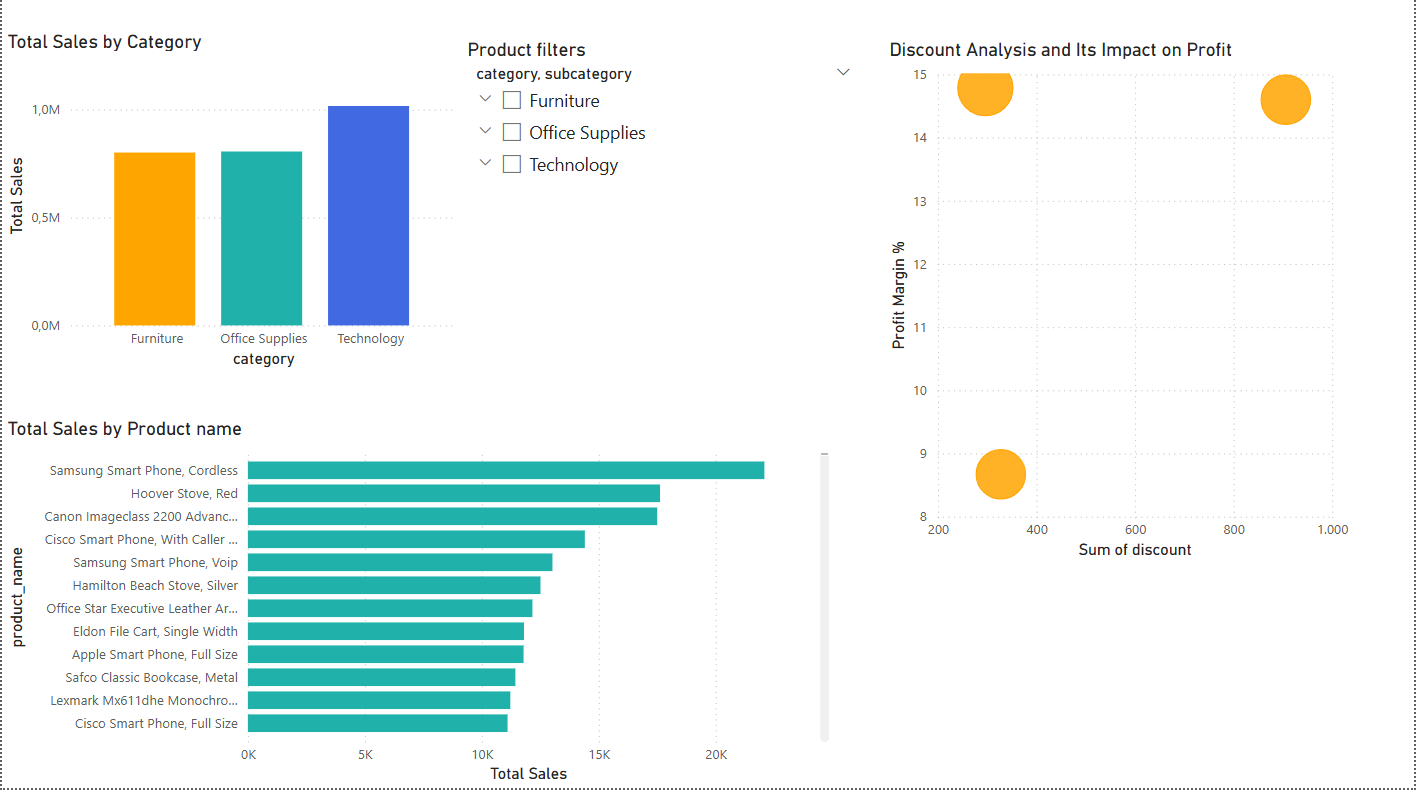

Layout of this report page (visuals, bound fields, positions):
{"tool":"powerbi","page":{"name":"Product Analysis","canvas":[1280,720],"ordinal":1},"visuals":[{"type":"columnChart","title":"Total Sales by Category","fields":{"Category":["superstore_dw dim_product.category","superstore_dw dim_product.subcategory","superstore_dw dim_product.product_name"],"Y":["superstore_dw fact_sales.Total Sales"]},"box":[0,32.5,417.2,311],"z":0},{"type":"barChart","title":"Total Sales by Product name","fields":{"Category":["superstore_dw dim_product.product_name"],"Y":["superstore_dw fact_sales.Total Sales"]},"box":[0,383.5,755.2,336.7],"z":1000},{"type":"slicer","title":"Product filters","fields":{"Values":["superstore_dw dim_product.category","superstore_dw dim_product.subcategory"]},"box":[417.5,39.6,364.9,310.6],"z":2000},{"type":"scatterChart","title":"Discount Analysis and Its Impact on Profit","fields":{"X":["Sum(superstore_dw fact_sales.discount)"],"Y":["superstore_dw fact_sales.Profit Margin %"],"Size":["superstore_dw fact_sales.Total Sales"],"Category":["superstore_dw dim_product.category"]},"box":[799.9,39.6,426.7,477.4],"z":3000}]}

Visuals, with their boxes in screenshot pixels (x1, y1, x2, y2), scaled from the page's 1280x720 canvas onto the 1418x790 screenshot:
"Total Sales by Category" columnChart: [left=0, top=36, right=462, bottom=377]
"Total Sales by Product name" barChart: [left=0, top=421, right=837, bottom=789]
"Product filters" slicer: [left=463, top=43, right=867, bottom=384]
"Discount Analysis and Its Impact on Profit" scatterChart: [left=886, top=43, right=1359, bottom=567]
